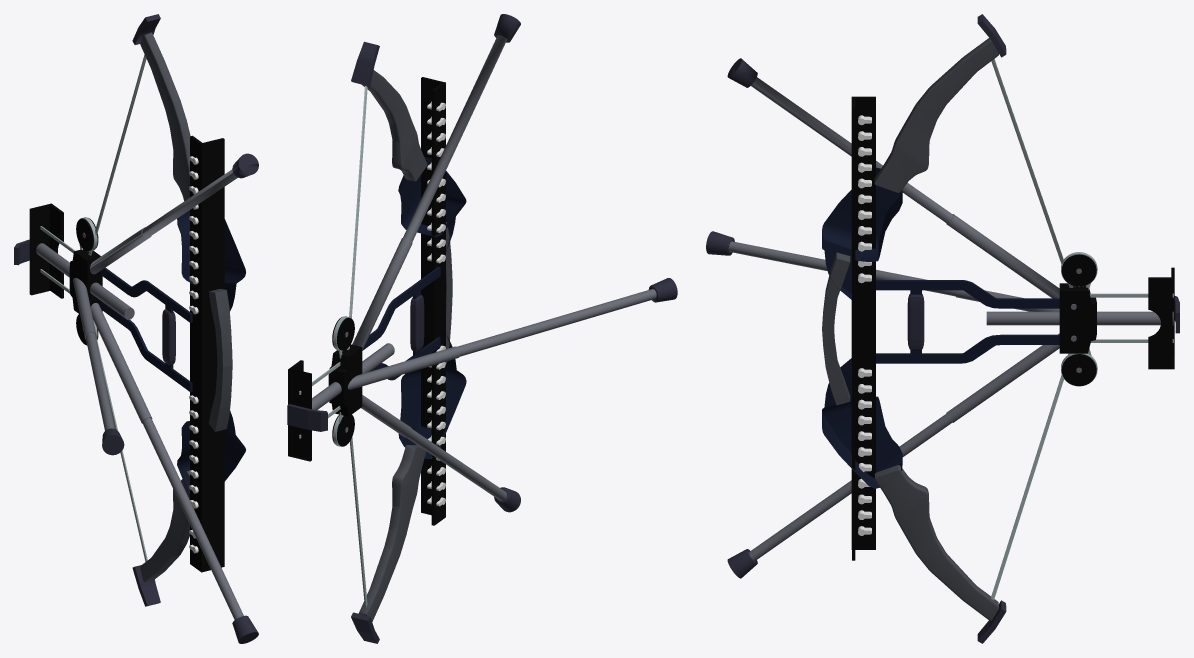
Rendered from Bow.fbx.
3 views of the same model, side by side, from view 1: azimuth 30°, elevation 25°; view 2: azimuth 150°, elevation 25°; view 3: azimuth 270°, elevation 25° (orthographic). The views are drawn at different scales.
Parts seen in each view (by area): view 1: 立方体, 円柱, 立方体.001, 平面.001, 立方体.003, 立方体.007, 平面, 円柱.001, 平面.002, 立方体.008, 円柱.004, 円柱.002 (+4 smaller); view 2: 円柱, 平面.001, 立方体.001, 円柱.001, 立方体.003, 立方体, Cube, 円柱.004, 立方体.007, 立方体.008, 平面.002, 立方体.011 (+5 smaller); view 3: 平面.001, 円柱, 立方体.001, 立方体.003, 平面.002, 円柱.001, 円柱.004, Cube, 立方体.007, 平面, 円柱.002, 立方体.008 (+4 smaller).
Boxes of the visible parts, box(x1,y1,x2,y2) form: 立方体: box(202, 138, 224, 571); 円柱: box(90, 153, 258, 643); 立方体.001: box(190, 135, 204, 572); 平面.001: box(140, 32, 190, 582); 立方体.003: box(177, 210, 245, 496); 立方体.007: box(29, 203, 63, 298); 平面: box(208, 289, 232, 431); 円柱.001: box(73, 278, 124, 455); 平面.002: box(100, 267, 192, 391); 立方体.008: box(88, 55, 147, 561); 円柱.004: box(189, 156, 198, 553); 円柱.002: box(36, 243, 134, 319); 円柱: box(352, 14, 520, 512); 平面.001: box(358, 70, 427, 621); 立方体.001: box(431, 82, 445, 525); 円柱.001: box(347, 278, 677, 389); 立方体.003: box(398, 157, 466, 459); 立方体: box(421, 77, 442, 515); Cube: box(328, 344, 362, 416); 円柱.004: box(427, 101, 445, 506); 立方体.007: box(288, 360, 311, 461); 立方体.008: box(347, 86, 367, 607); 平面.002: box(362, 266, 440, 380); 立方体.011: box(351, 41, 379, 643); 平面.001: box(874, 38, 998, 620); 円柱: box(727, 58, 1059, 578); 立方体.001: box(851, 96, 875, 549); 立方体.003: box(822, 167, 902, 488); 平面.002: box(876, 280, 1059, 363); 円柱.001: box(706, 231, 1059, 311); 円柱.004: box(858, 115, 871, 535); Cube: box(1059, 283, 1096, 353); 立方体.007: box(1148, 267, 1174, 369); 平面: box(822, 252, 850, 405); 円柱.002: box(986, 311, 1173, 325); 立方体.008: box(991, 59, 1073, 600).
Size of the model in its own units: 28.6 by 82.7 by 56.99.
